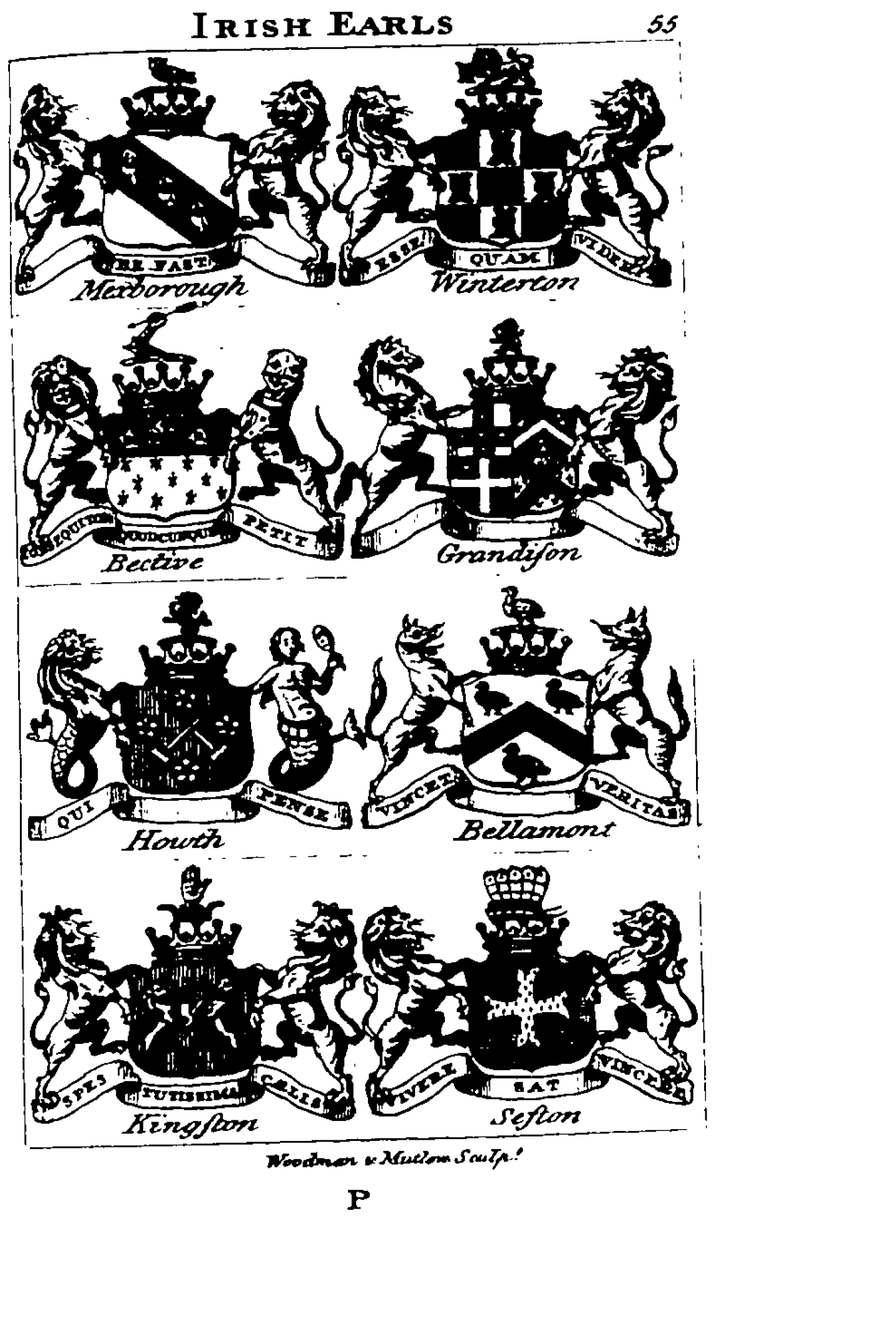coat_of_arms: (17, 856, 363, 1142), (351, 575, 693, 849), (337, 47, 678, 311), (347, 305, 683, 571), (365, 858, 694, 1128), (29, 587, 352, 858), (21, 309, 346, 575), (19, 66, 332, 310)
